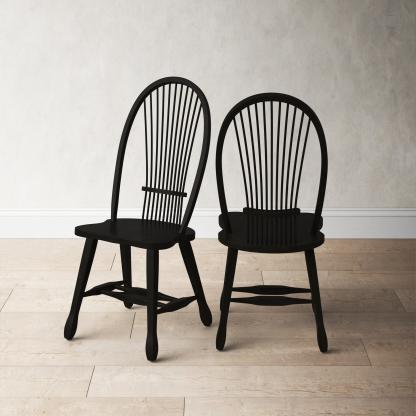chair: (70, 83, 212, 346), (214, 95, 327, 353)
